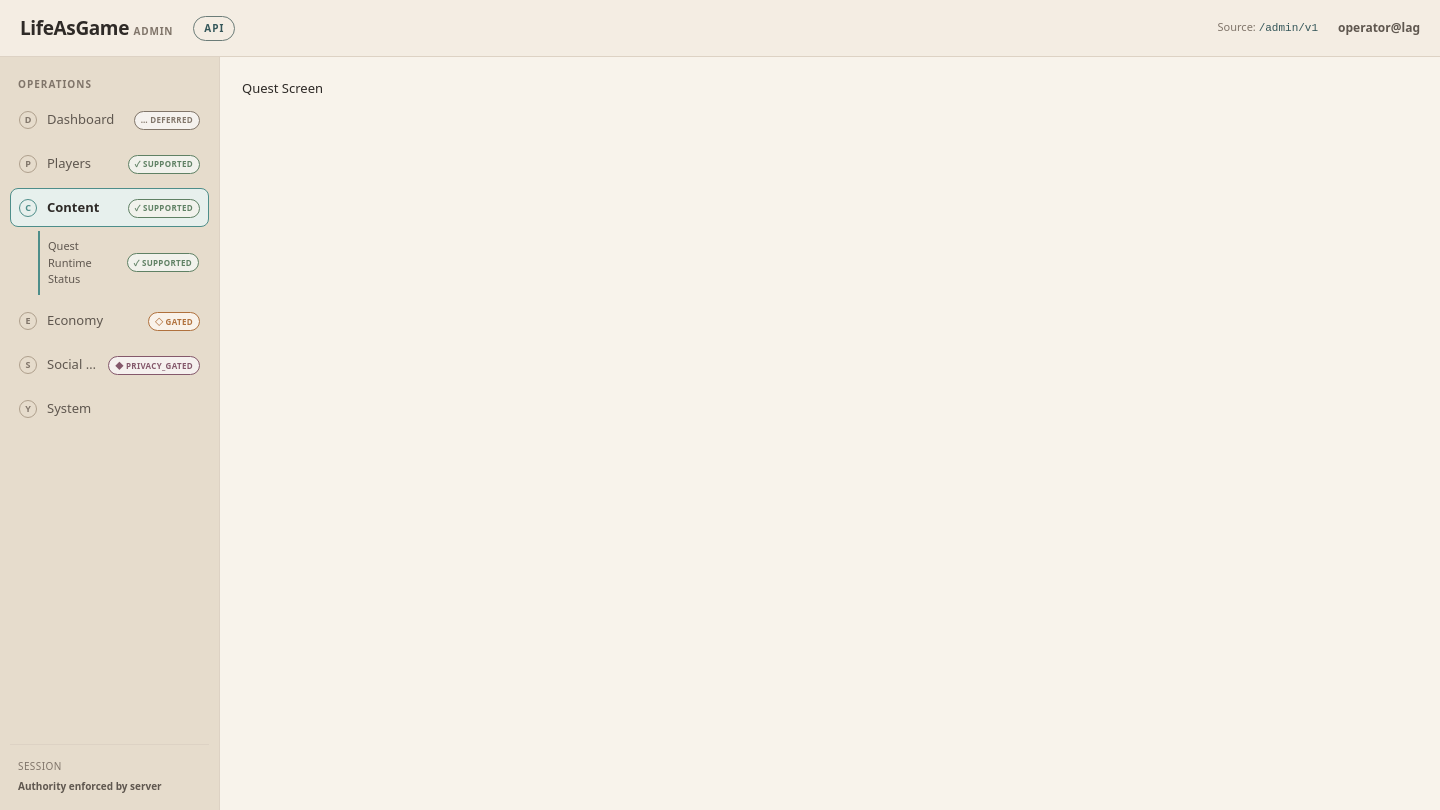
Test case: Admin Phase A3 shell › exposes only Quest Runtime Status under Content while Player and Audit remain supported
The image size is (1440, 810).
Check: the navigation bar named "Admin operations" is shown, box [10,100,209,428]
Check: the text "Quest Runtime Status" is shown, box [48,238,92,286]
Click the button with aria-label "Players, SUPPORTED". click: click(110, 164)
box: [10,144,209,183]
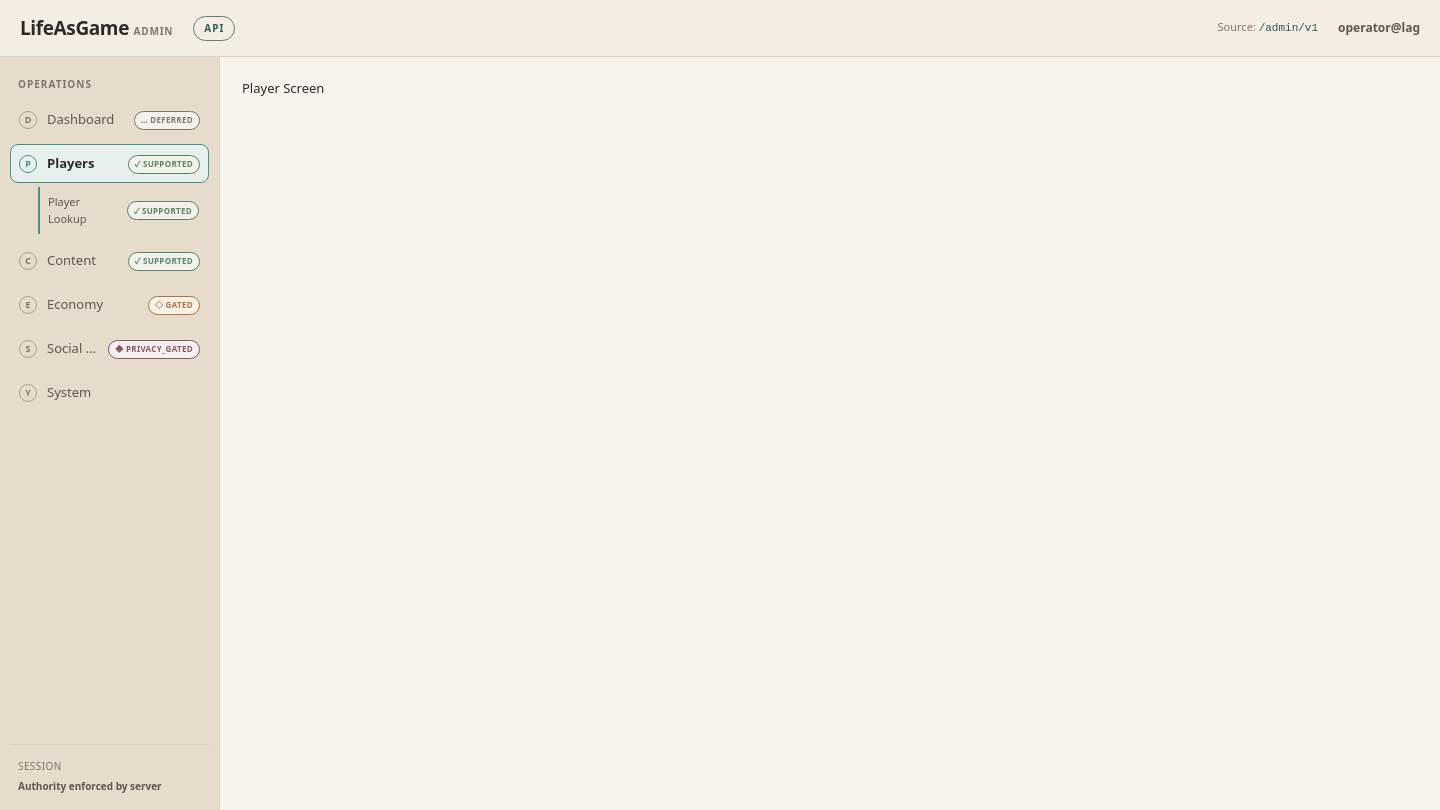
Check: the text "Player Lookup" is shown, box [48,194,86,226]
Check: the text "Player Screen" is shown, box [242,79,324,97]
Click the button with aria-label "System, SUPPORTED". click: click(110, 392)
box: [10,373,209,412]
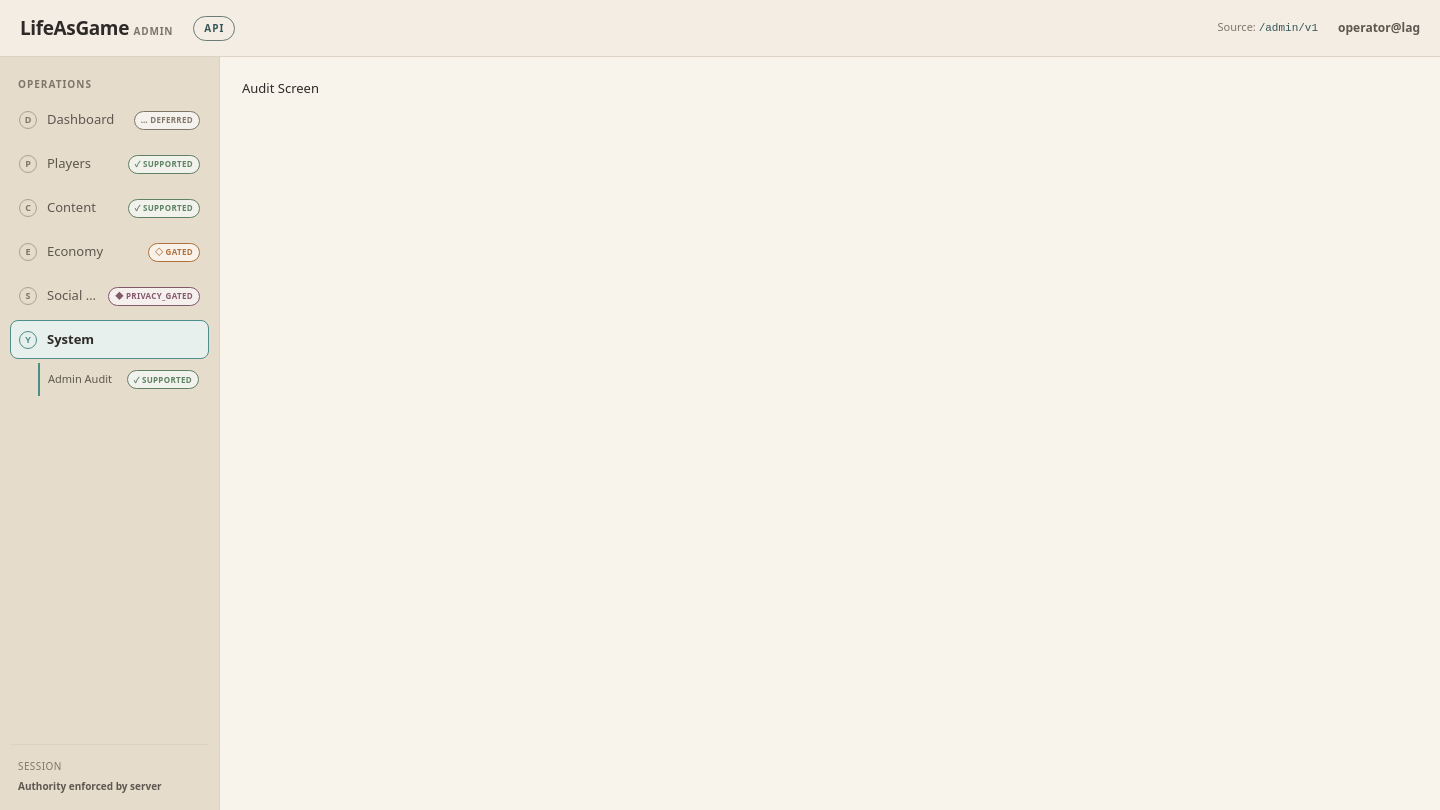
Check: the text "Admin Audit" is shown, box [48,371,112,388]
Check: the text "Audit Screen" is shown, box [242,79,319,97]
